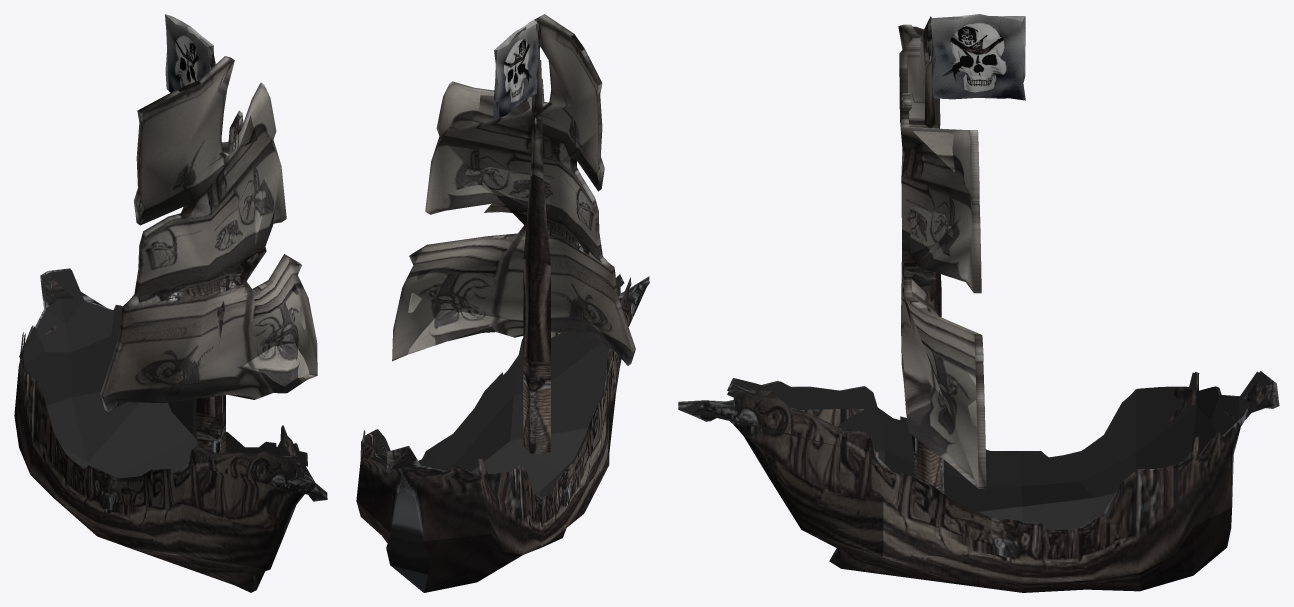
Rendered from EnemyPirateShip.fbx.
3 renders of one model, left to right at view 1: azimuth 30°, elevation 25°; view 2: azimuth 150°, elevation 25°; view 3: azimuth 270°, elevation 25°, orthographic. The views are drawn at different scales.
Parts seen in each view (by area): view 1: Pirate ship sail.002, Pirate ship hull.003, Pirate ship hull.002, Pirate skull flag, watercolour and gouache, Pirate ship mast.001; view 2: Pirate ship sail.002, Pirate ship hull.003, Pirate ship hull.002, Pirate ship mast.001, Pirate skull flag, watercolour and gouache; view 3: Pirate ship hull.003, Pirate ship sail.002, Pirate ship hull.002, Pirate skull flag, watercolour and gouache, Pirate ship mast.001.
Part boxes in pixels (x1,y1,x2,y2): Pirate ship sail.002: [100, 56, 317, 411]; Pirate ship hull.003: [14, 268, 327, 592]; Pirate ship hull.002: [21, 270, 324, 499]; Pirate skull flag, watercolour and gouache: [165, 14, 213, 92]; Pirate ship mast.001: [196, 45, 225, 452]; Pirate ship sail.002: [392, 14, 635, 365]; Pirate ship hull.003: [356, 274, 649, 592]; Pirate ship hull.002: [364, 276, 647, 497]; Pirate ship mast.001: [523, 18, 550, 453]; Pirate skull flag, watercolour and gouache: [493, 19, 538, 120]; Pirate ship hull.003: [678, 371, 1279, 592]; Pirate ship sail.002: [898, 24, 986, 488]; Pirate ship hull.002: [682, 371, 1272, 530]; Pirate skull flag, watercolour and gouache: [930, 14, 1025, 100]; Pirate ship mast.001: [902, 16, 944, 493].
Bounding box in the file's own units: 187 × 399 × 387.
